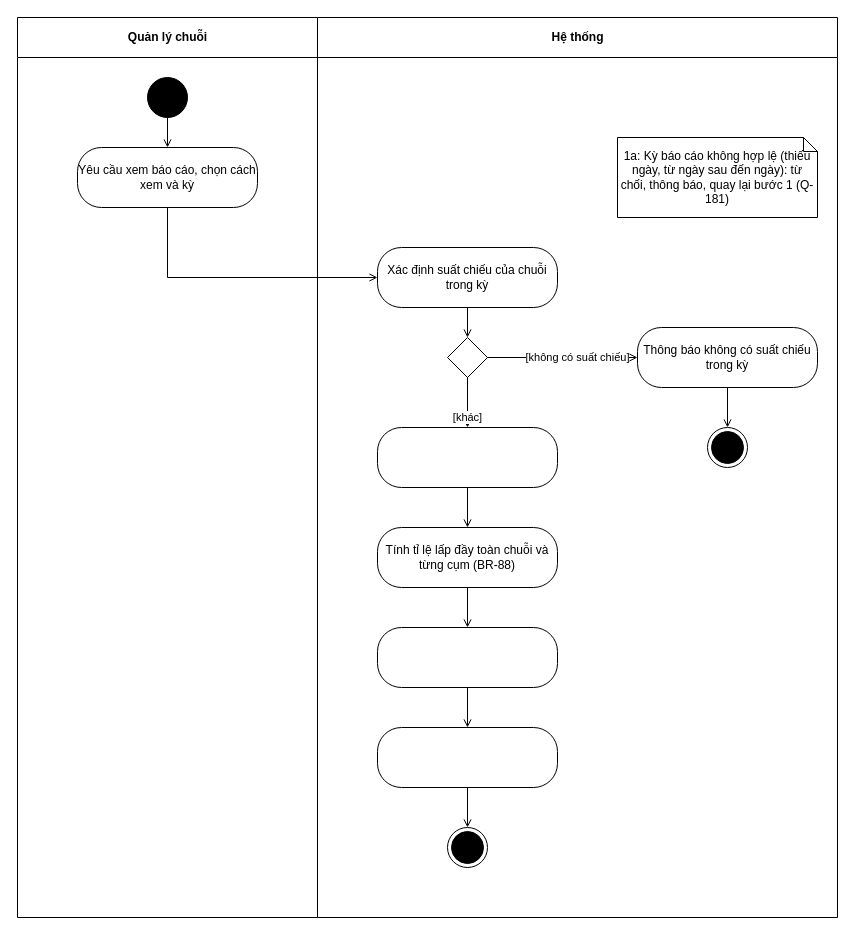
This 855x935 diagram has some shape labels left out. The shapes that lost their labels are listed below. From the top down, each one's box as (x1, y1, x2, y2) in pixels, then its label:
(376, 426, 558, 488): Tính doanh thu toàn chuỗi và từng cụm (BR-77)
(376, 626, 558, 688): Tổng hợp kết quả để so sánh các cụm rạp
(376, 726, 558, 788): Hiển thị báo cáo và kết quả so sánh
